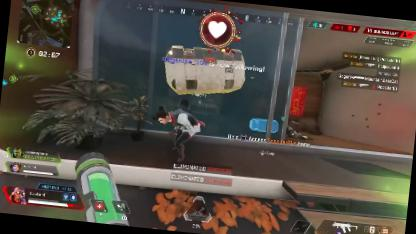Target: (154, 100, 206, 160)
